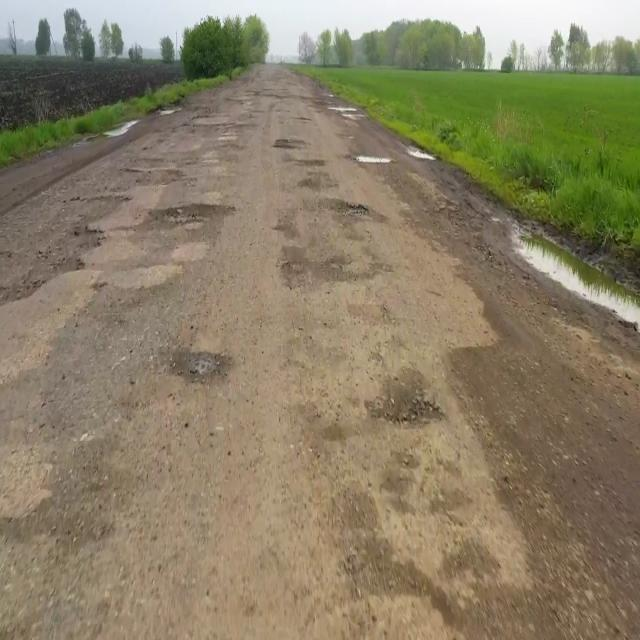road-pothole: (2, 173, 120, 313), (509, 228, 637, 324), (171, 348, 227, 390), (146, 202, 223, 228), (384, 388, 436, 422), (83, 115, 135, 141), (336, 198, 380, 220), (407, 141, 441, 167), (357, 154, 391, 166)
